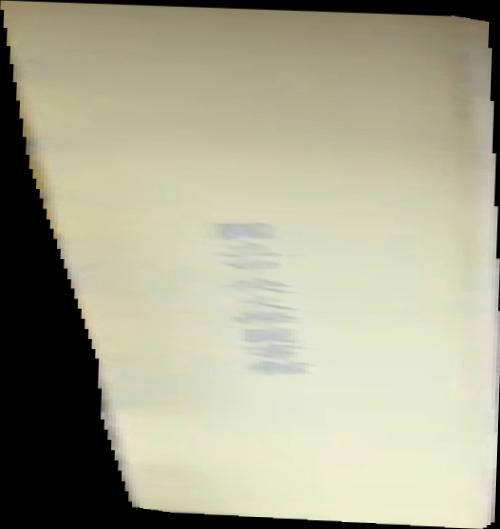backward: (1, 1, 500, 529)
